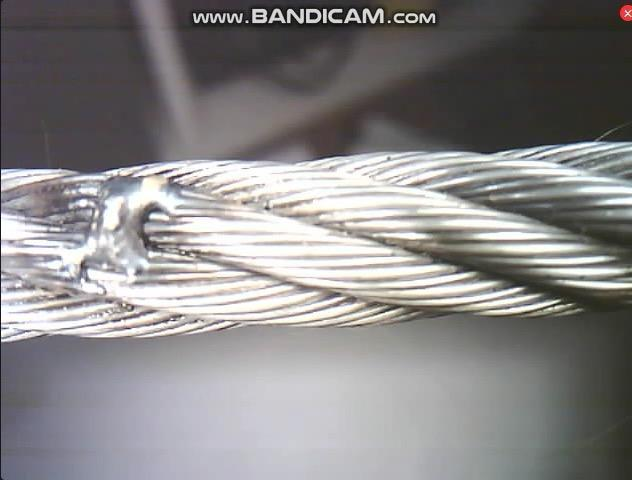thunderbolt: (33, 151, 189, 290)
